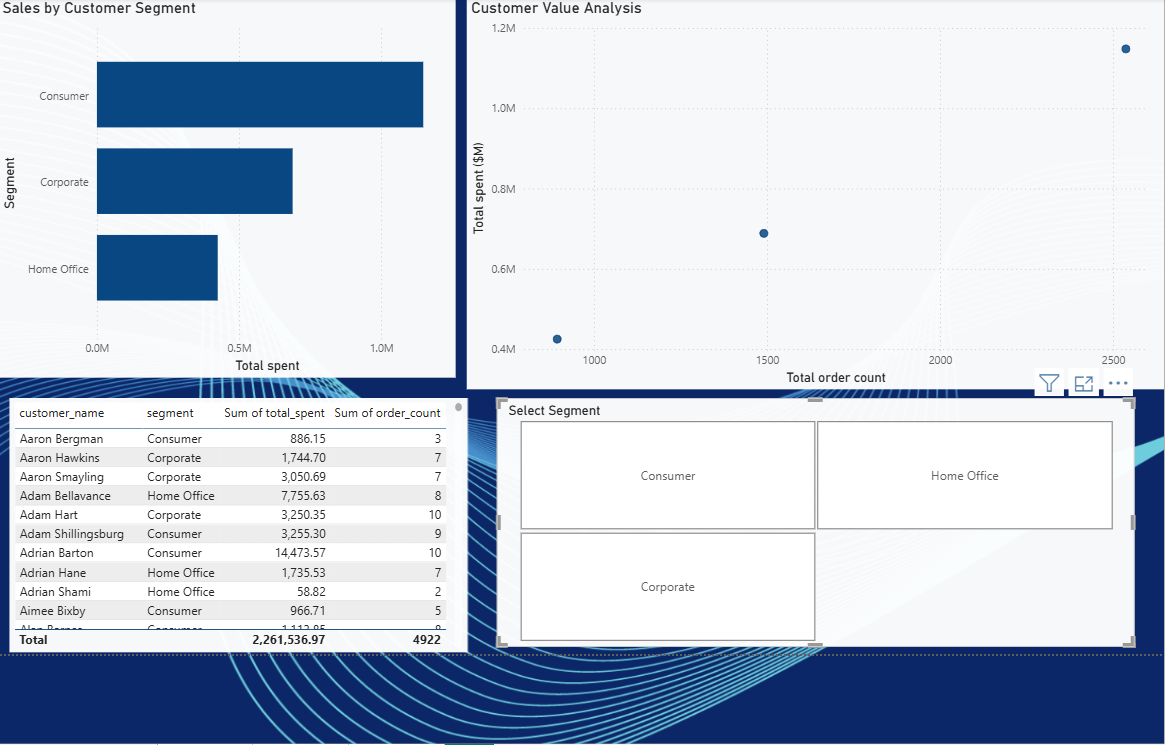

What the dashboard file says about the page in this screenshot:
{"tool":"powerbi","page":{"name":"Page 3","canvas":[1280,720],"ordinal":2},"visuals":[{"type":"clusteredBarChart","title":"Sales by Customer Segment","fields":{"Category":["sales_analytics view_customer_analysis.segment"],"Y":["Sum(sales_analytics view_customer_analysis.total_spent)"]},"box":[11.9,0,502.9,417.6],"z":0},{"type":"tableEx","fields":{"Values":["sales_analytics view_customer_analysis.customer_name","sales_analytics view_customer_analysis.segment","Sum(sales_analytics view_customer_analysis.total_spent)","Sum(sales_analytics view_customer_analysis.order_count)"]},"box":[11.9,439.8,502.9,279.6],"z":1000},{"type":"scatterChart","title":"Customer Value Analysis","fields":{"X":["Sum(sales_analytics view_customer_analysis.order_count)"],"Y":["Sum(sales_analytics view_customer_analysis.total_spent)"],"Category":["sales_analytics view_customer_analysis.segment"]},"box":[542.1,0,738.1,429.6],"z":2000},{"type":"slicer","fields":{"Values":["sales_analytics view_customer_analysis.segment"]},"box":[562.5,446.6,700.6,272.7],"z":3000}]}

Visuals, with their boxes in screenshot pixels (x1, y1, x2, y2):
"Sales by Customer Segment" clusteredBarChart: bbox=[14, 0, 465, 375]
tableEx - sales_analytics view_customer_analysis.customer_name x sales_analytics view_customer_analysis.segment: bbox=[14, 395, 465, 646]
"Customer Value Analysis" scatterChart: bbox=[490, 0, 1152, 386]
slicer - sales_analytics view_customer_analysis.segment: bbox=[508, 401, 1137, 646]
